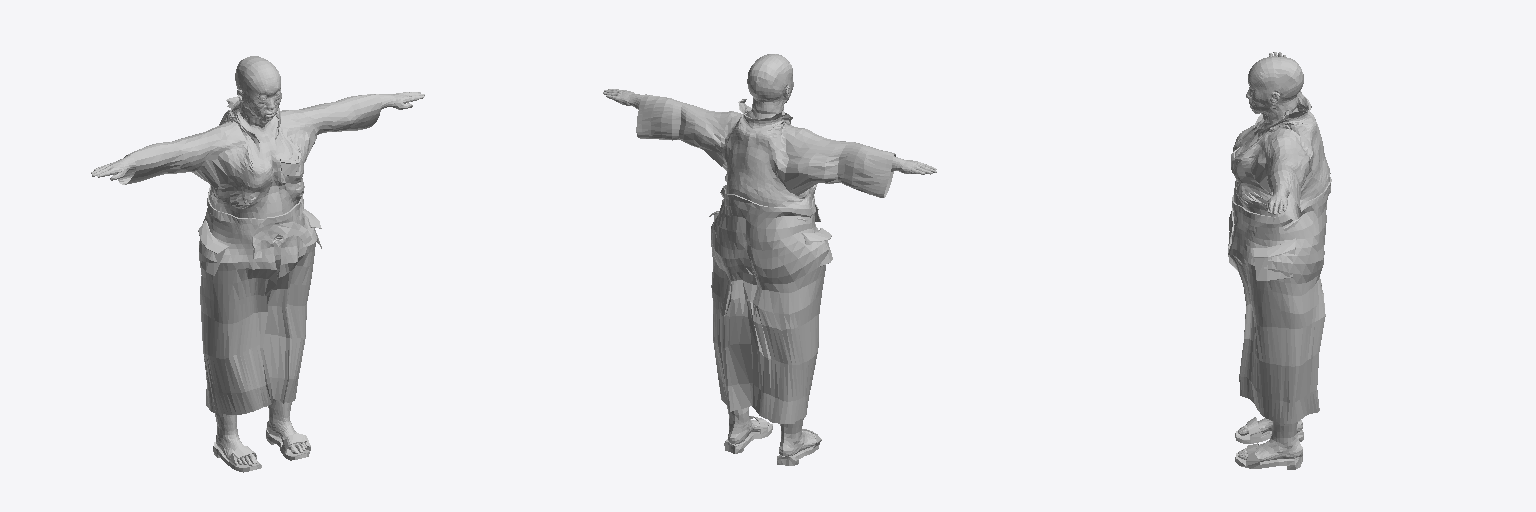
File: MICKEY 1.obj
The picture shows the model from 3 angles: view 1: azimuth 30°, elevation 25°; view 2: azimuth 150°, elevation 25°; view 3: azimuth 270°, elevation 25°; orthographic projection.
Parts seen in each view (by area): view 1: longrider1_249b.obj, base.obj; view 2: longrider1_249b.obj, base.obj; view 3: longrider1_249b.obj, base.obj.
Part boxes in pixels (x1,y1,x2,y2): longrider1_249b.obj: (118, 94, 381, 472); base.obj: (91, 56, 424, 465); longrider1_249b.obj: (636, 94, 895, 465); base.obj: (603, 54, 936, 456); longrider1_249b.obj: (1228, 90, 1331, 469); base.obj: (1237, 52, 1303, 461).
Bounding box in the file's own units: 13.7 × 15.54 × 3.69.